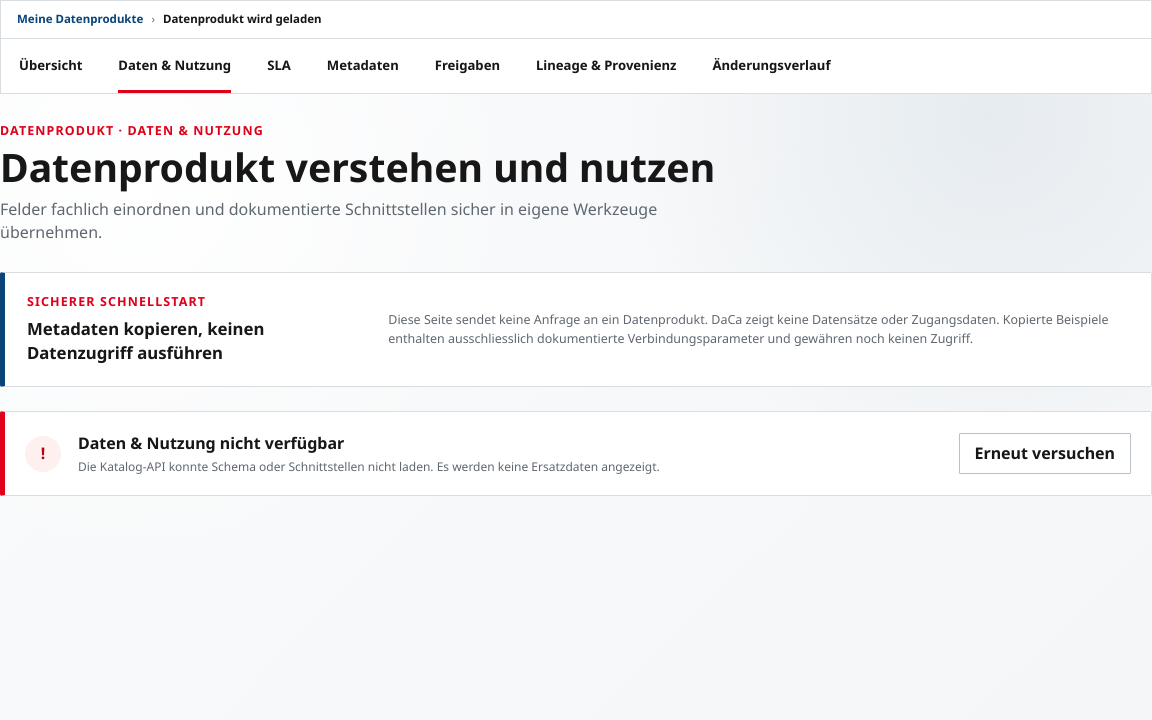
Test: ProductUsageComponent › shows a load error and retries the real API without fallback data
Click the button "Erneut versuchen": {"x": 1045, "y": 454} [958,433,1131,474]
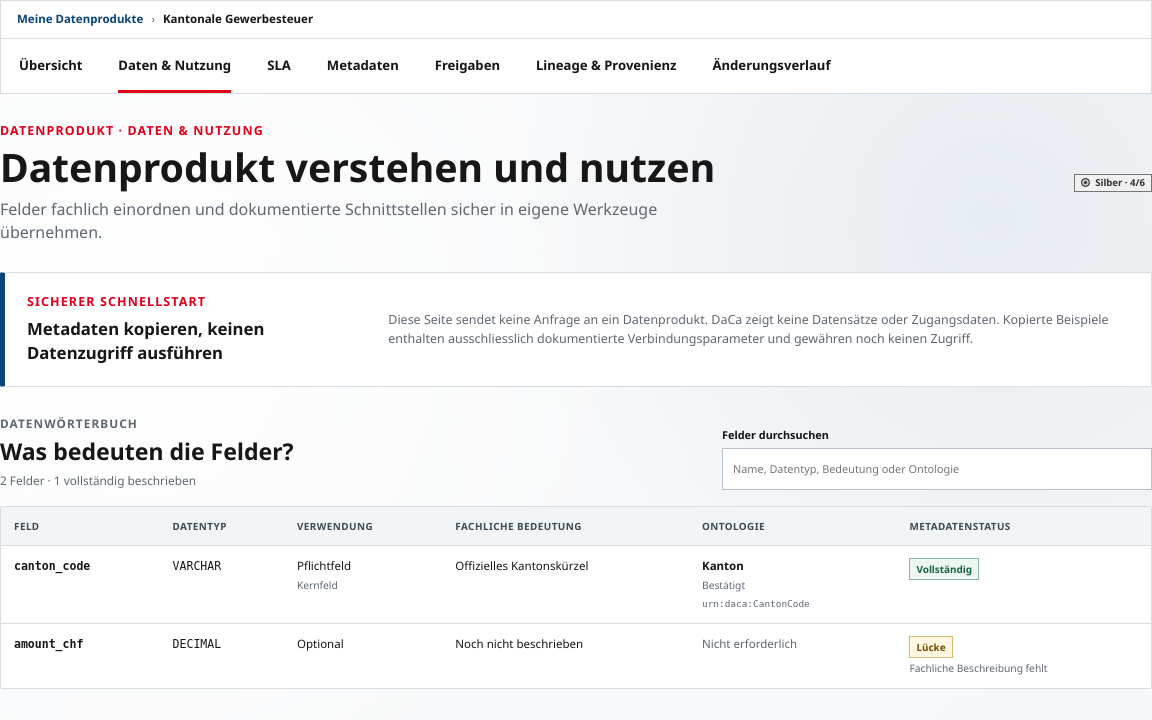
Result: the text "Offizielles Kantonskürzel" is shown at [442,546,689,624]
Result: the text "Daten & Nutzung nicht verfügbar" is gone
